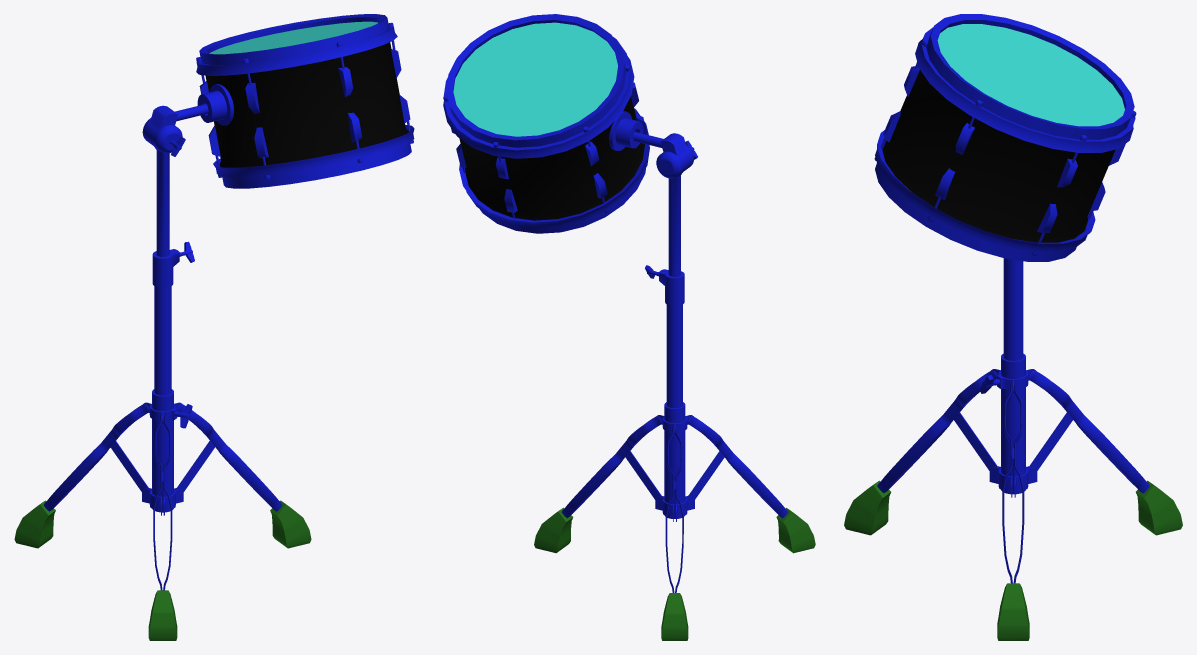
Rendered from tom_FBX_Unreal.fbx.
3 views of the same model, side by side, from view 1: azimuth 30°, elevation 25°; view 2: azimuth 150°, elevation 25°; view 3: azimuth 270°, elevation 25° (orthographic). The views are drawn at different scales.
Parts seen in each view (by area): view 1: tom_LOW; view 2: tom_LOW; view 3: tom_LOW.
Part boxes in pixels (bbox=[...]): tom_LOW: bbox=[14, 14, 414, 640]; tom_LOW: bbox=[443, 14, 815, 640]; tom_LOW: bbox=[844, 14, 1182, 640].
Bounding box in the file's own units: 63.81 × 104 × 53.15.
